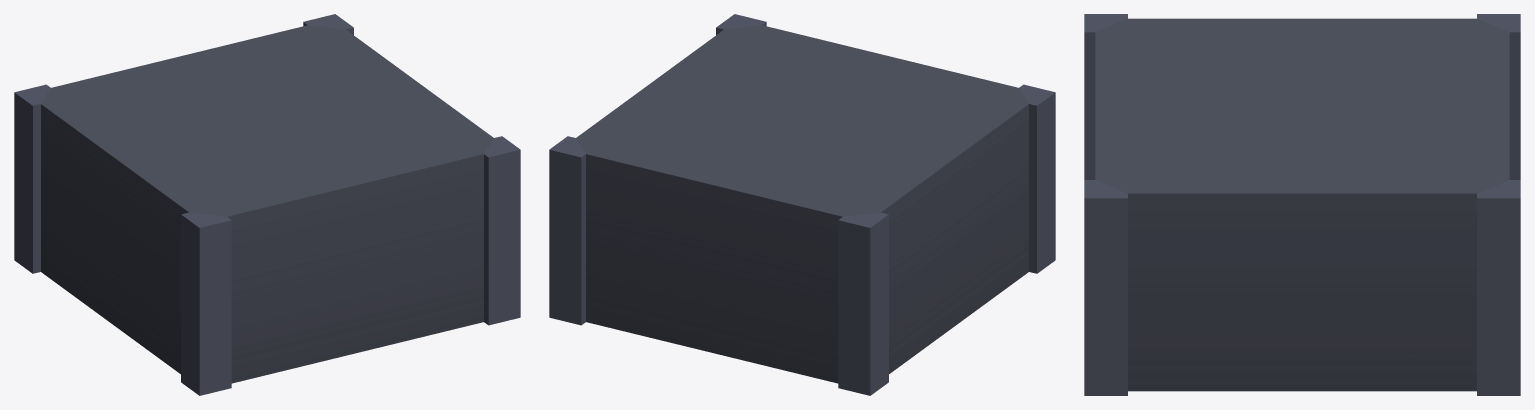
File: wall-block-half.glb
3 renders of one model, left to right at view 1: azimuth 30°, elevation 25°; view 2: azimuth 150°, elevation 25°; view 3: azimuth 270°, elevation 25°, orthographic. The views are drawn at different scales.
Visible parts, largest first — view 1: wall-block-half; view 2: wall-block-half; view 3: wall-block-half.
Part boxes in pixels (box(x1,y1,x2,y2)): wall-block-half: box(14, 14, 520, 395); wall-block-half: box(549, 14, 1055, 395); wall-block-half: box(1084, 14, 1520, 395).
Bounding box in the file's own units: 1 × 0.5 × 1.
Materials: 1 (1 with a texture image).
